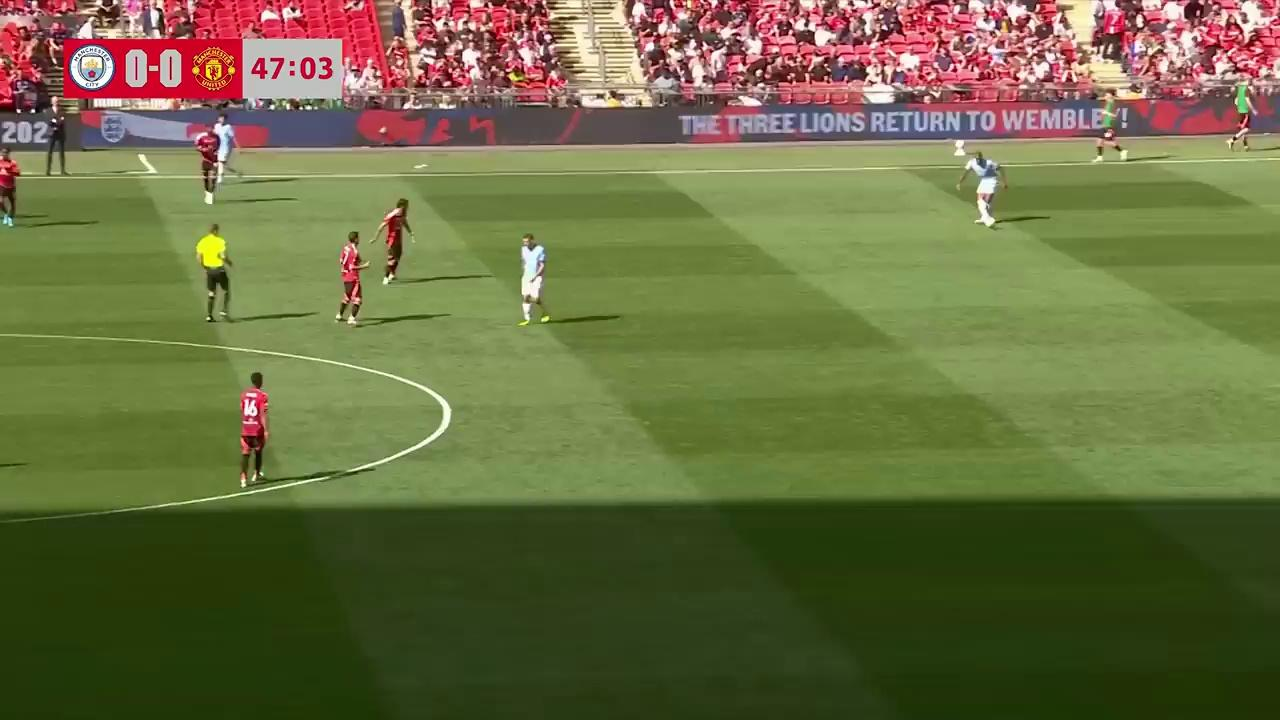ball: (982, 213, 995, 227)
player: (238, 371, 269, 490), (371, 198, 413, 285), (518, 233, 552, 326), (334, 232, 367, 327), (961, 150, 1001, 228), (193, 129, 220, 204), (0, 151, 21, 227), (214, 124, 240, 181)
referee: (195, 222, 233, 323)
